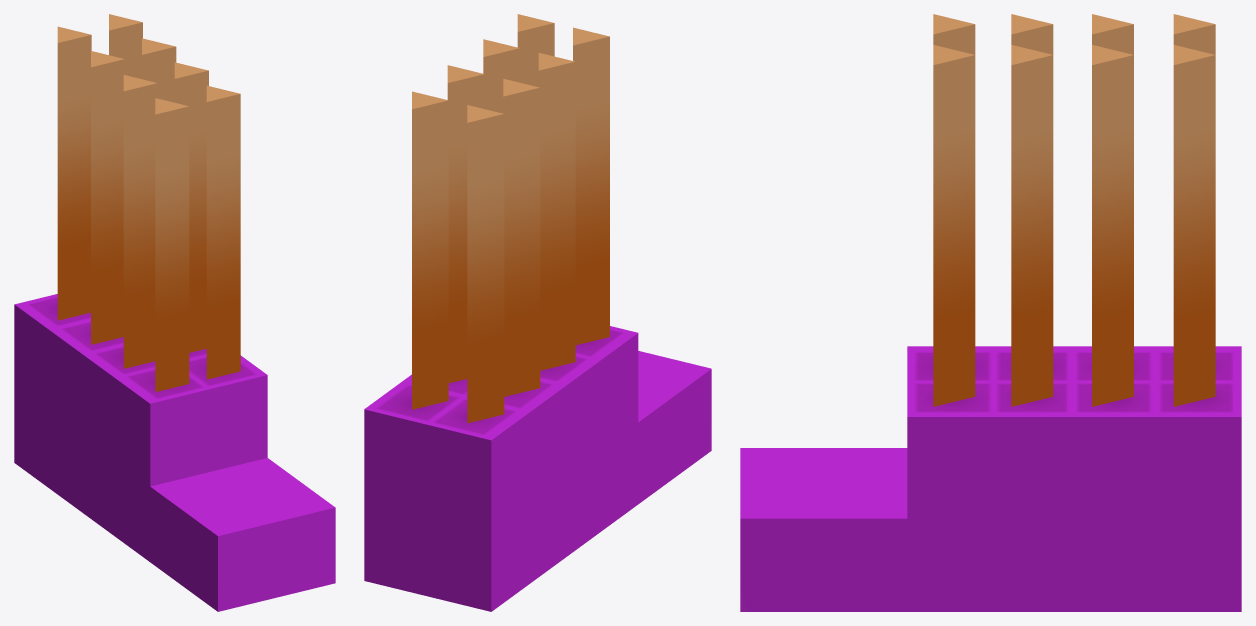
Rendered from PowerConnectors4.fbx.
3 views of the same model, side by side, from view 1: azimuth 30°, elevation 25°; view 2: azimuth 150°, elevation 25°; view 3: azimuth 270°, elevation 25° (orthographic). The views are drawn at different scales.
Parts seen in each view (by area): view 1: PowerConnectors4; view 2: PowerConnectors4; view 3: PowerConnectors4.
Part boxes in pixels (x1=…): PowerConnectors4: x1=14, y1=14, x2=335, y2=611; PowerConnectors4: x1=364, y1=14, x2=711, y2=611; PowerConnectors4: x1=740, y1=14, x2=1241, y2=611.
Bounding box in the file's own units: 0.5 × 1.77 × 1.5.
